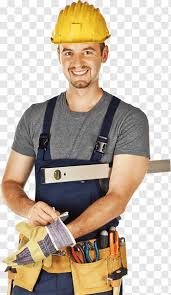Person_wearing_helmet: (46, 0, 115, 64)
